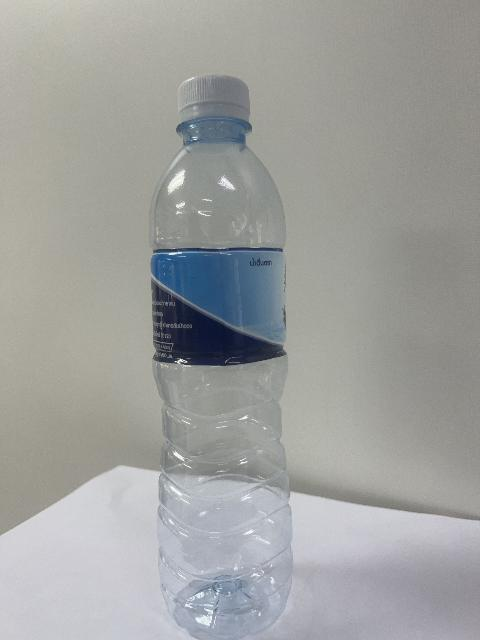bottle: (150, 76, 292, 639)
